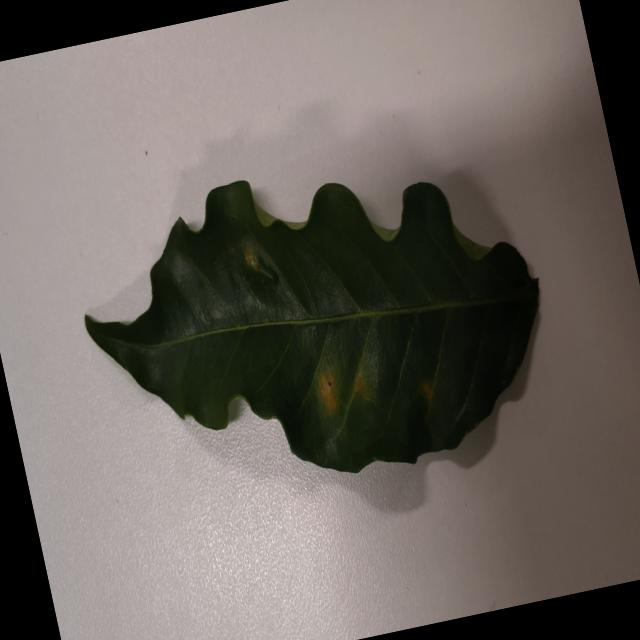KaratDaunKopi: (318, 374, 337, 413), (244, 249, 258, 270), (354, 374, 366, 394), (421, 381, 432, 400)
